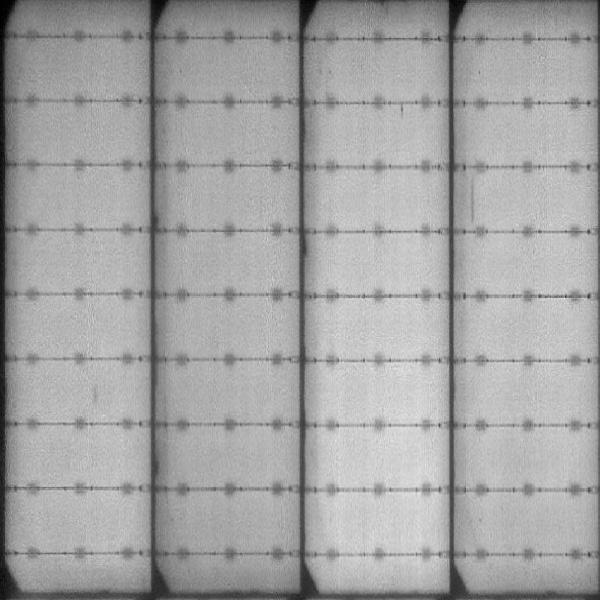scratch: (468, 175, 479, 221)
